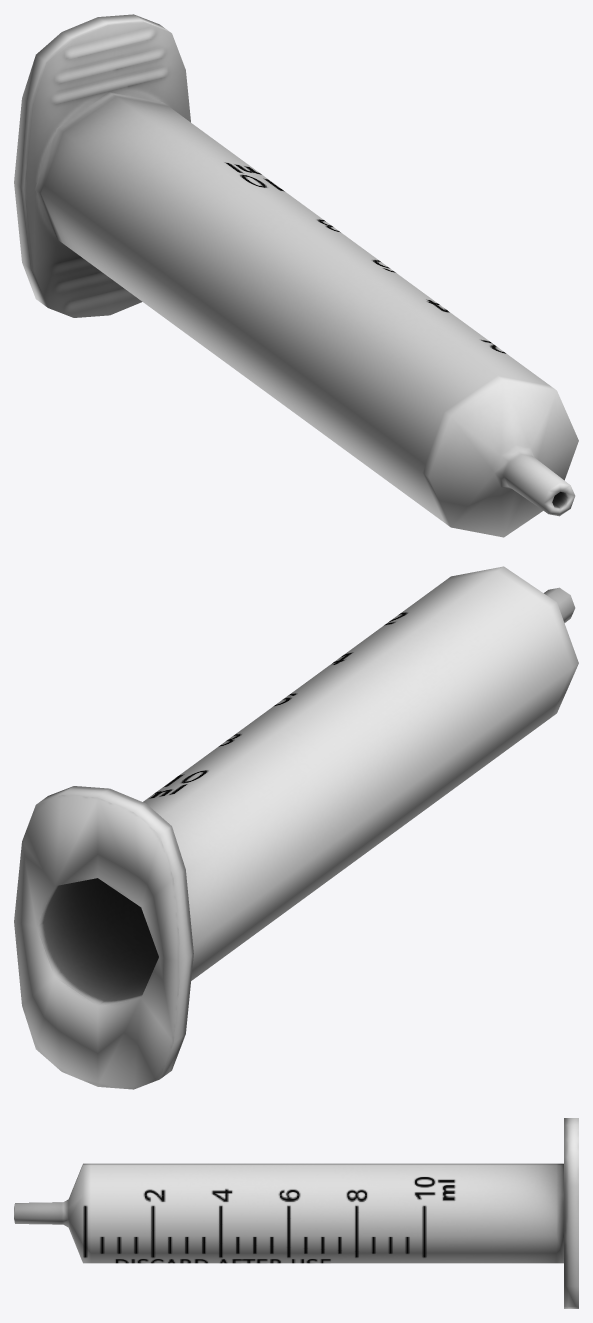
The model's file is syringeBarrel.fbx.
3 views of the same model, one above another, from view 1: azimuth 30°, elevation 25°; view 2: azimuth 150°, elevation 25°; view 3: azimuth 270°, elevation 25° (orthographic). The views are drawn at different scales.
Parts seen in each view (by area): view 1: syringeBarrel; view 2: syringeBarrel; view 3: syringeBarrel.
Boxes of the visible parts, box(x1,y1,x2,y2) form: syringeBarrel: box(14, 14, 578, 537); syringeBarrel: box(14, 566, 578, 1089); syringeBarrel: box(14, 1118, 578, 1308).
Size of the model in its own units: 1.15 by 1.9 by 5.49.
